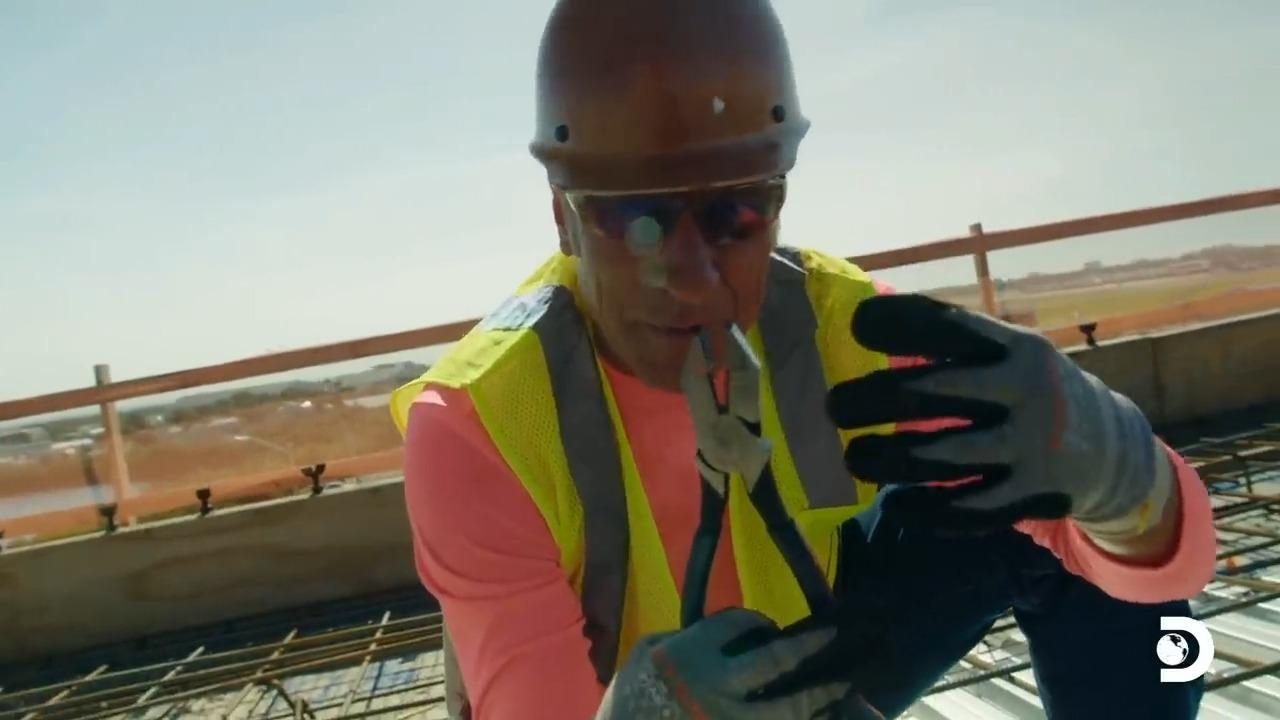Gloves: (850, 290, 1116, 515), (615, 580, 841, 720)
Person: (388, 0, 1217, 718)
Safety Vest: (458, 310, 880, 615)
